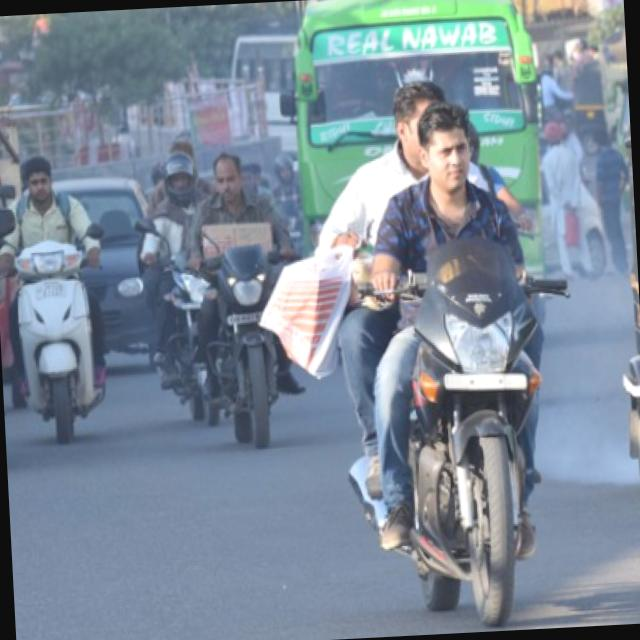WithHelmet: (130, 142, 220, 391)
WithoutHelmet: (310, 74, 545, 508), (338, 98, 555, 556), (193, 148, 306, 401), (0, 150, 110, 409)
